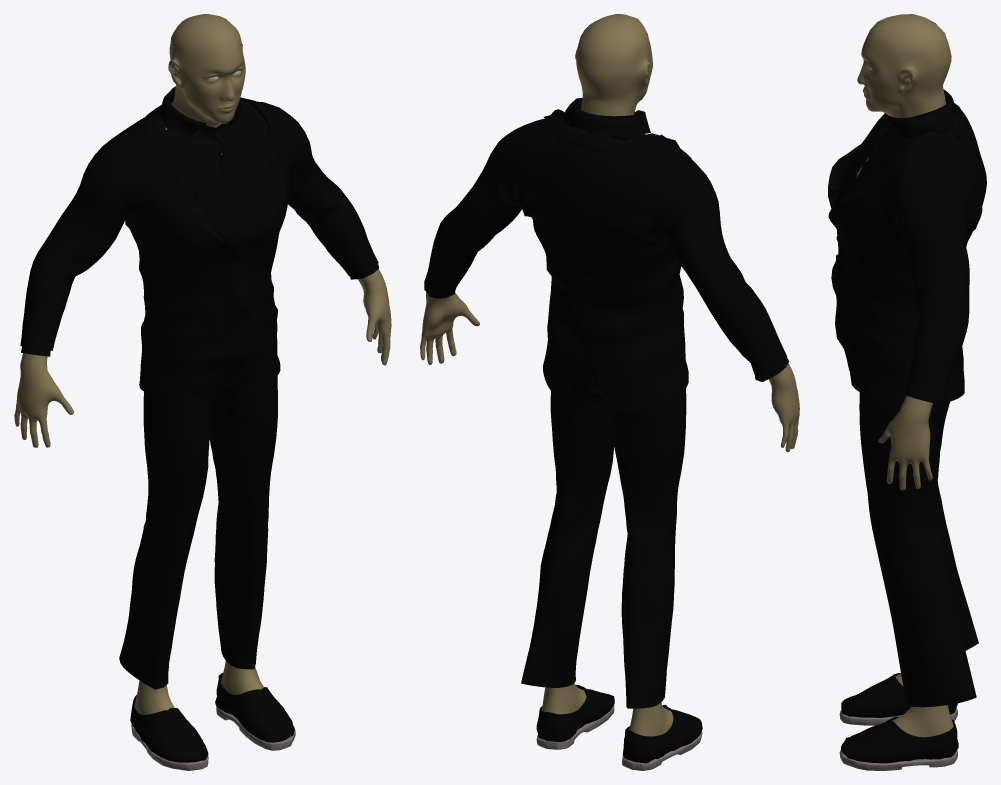
Rendered from elder guy low poly body.fbx.
The picture shows the model from 3 angles, left to right: view 1: azimuth 30°, elevation 25°; view 2: azimuth 150°, elevation 25°; view 3: azimuth 270°, elevation 25°; orthographic projection.
Visible parts, largest first — view 1: old_guy_suit, elder_guy_low_poly1, shoe_soles; view 2: old_guy_suit, elder_guy_low_poly1, shoe_soles; view 3: old_guy_suit, elder_guy_low_poly1, shoe_soles.
Boxes of the visible parts, left/top/right/bottom form: old_guy_suit: left=20, top=86, right=378, bottom=762; elder_guy_low_poly1: left=14, top=14, right=391, bottom=714; shoe_soles: left=131, top=706, right=295, bottom=770; old_guy_suit: left=424, top=98, right=789, bottom=763; elder_guy_low_poly1: left=420, top=14, right=799, bottom=736; shoe_soles: left=536, top=705, right=702, bottom=770; old_guy_suit: left=828, top=89, right=986, bottom=763; elder_guy_low_poly1: left=856, top=14, right=953, bottom=737; shoe_soles: left=839, top=707, right=957, bottom=770.
Size of the model in its own units: 8.48 by 15.86 by 3.17.
